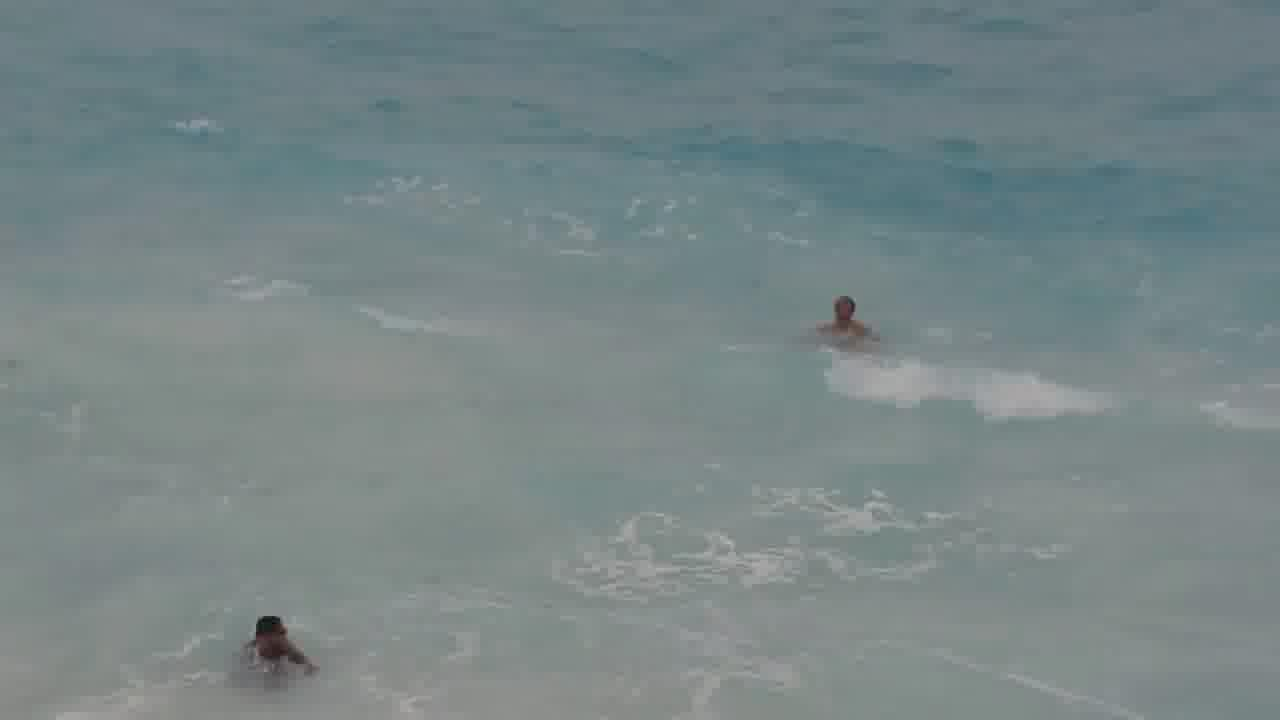human: (228, 602, 325, 677), (801, 290, 888, 348)
